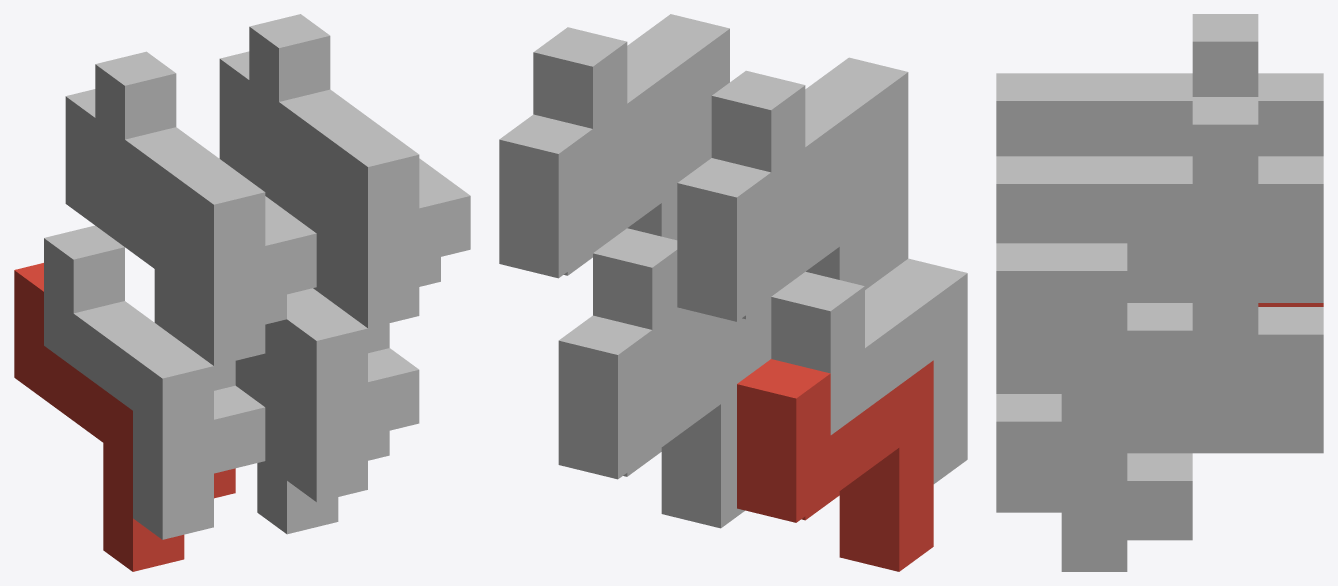
File: tiling.obj
3 renders of one model, left to right at view 1: azimuth 30°, elevation 25°; view 2: azimuth 150°, elevation 25°; view 3: azimuth 270°, elevation 25°, orthographic. The views are drawn at different scales.
Parts seen in each view (by area): view 1: copy_1_domain_8, copy_1_domain_4, copy_1_domain_2, copy_1_domain_6, copy_1_domain_1, copy_1_domain_3, copy_1_domain_7, copy_1_domain_5; view 2: copy_1_domain_1, copy_1_domain_5, copy_1_domain_4, copy_1_domain_2, copy_1_domain_3, copy_1_domain_8, copy_1_domain_7, copy_1_domain_6; view 3: copy_1_domain_8, copy_1_domain_7, copy_1_domain_5, copy_1_domain_4, copy_1_domain_6, copy_1_domain_3.
Boxes of the visible parts, x1,y1,x2,y2 form: copy_1_domain_8: (249,14,470,328); copy_1_domain_4: (95,51,316,365); copy_1_domain_2: (44,225,265,539); copy_1_domain_6: (262,288,419,502); copy_1_domain_1: (14,263,235,571); copy_1_domain_3: (65,89,286,390); copy_1_domain_7: (219,51,440,353); copy_1_domain_5: (235,354,389,534); copy_1_domain_1: (737,359,933,571); copy_1_domain_5: (558,315,755,528); copy_1_domain_4: (711,57,908,283); copy_1_domain_2: (771,258,967,483); copy_1_domain_3: (677,158,873,321); copy_1_domain_8: (533,14,729,190); copy_1_domain_7: (499,114,695,278); copy_1_domain_6: (593,228,771,391); copy_1_domain_8: (996,97,1258,362); copy_1_domain_7: (1061,156,1323,421); copy_1_domain_5: (1061,307,1323,571); copy_1_domain_4: (996,14,1258,156); copy_1_domain_6: (996,303,1258,512); copy_1_domain_3: (1258,73,1323,156).
Size of the model in its own units: 6 by 8 by 5.
